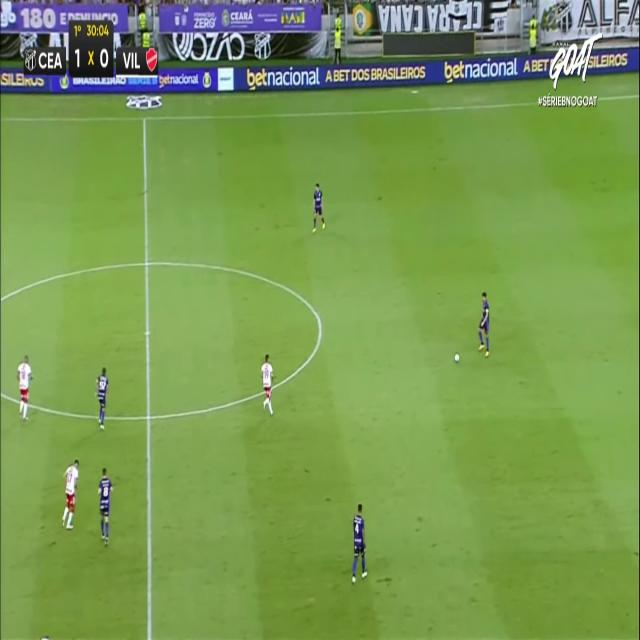ball: (454, 353, 459, 363)
player: (351, 502, 367, 583), (97, 466, 113, 546), (61, 459, 79, 529), (17, 354, 34, 420), (261, 353, 275, 416), (95, 367, 109, 430), (478, 291, 490, 357), (311, 181, 325, 233)
